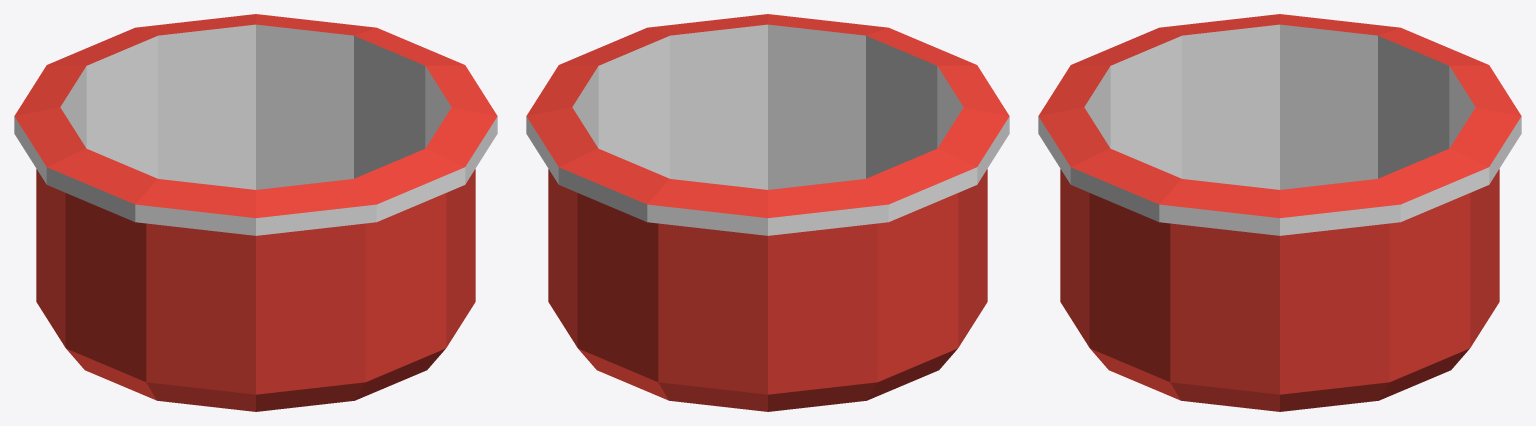
3 renders of one model, left to right at view 1: azimuth 30°, elevation 25°; view 2: azimuth 150°, elevation 25°; view 3: azimuth 270°, elevation 25°, orthographic.
Visible parts, largest first — view 1: mesh_960826966; view 2: mesh_960826966; view 3: mesh_960826966.
Boxes of the visible parts, x1,y1,x2,y2 form: mesh_960826966: (14,14,497,411); mesh_960826966: (526,14,1009,411); mesh_960826966: (1038,14,1521,411).
Bounding box in the file's own units: 93 × 46.97 × 93.
